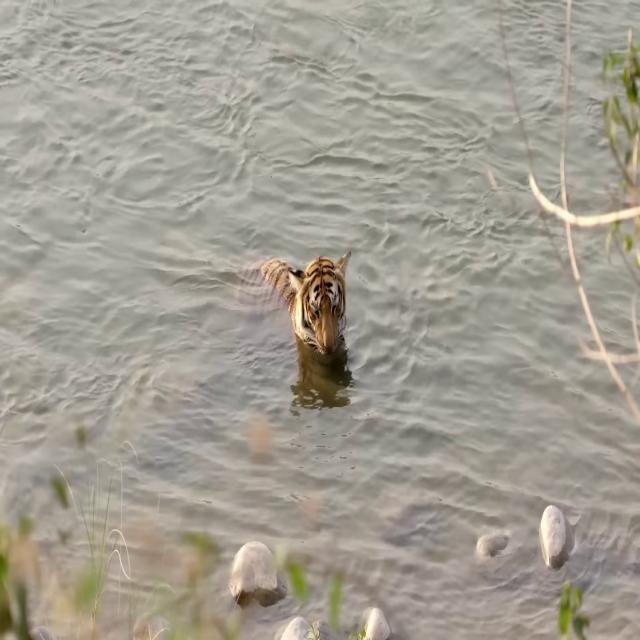tiger: (236, 250, 352, 356)
